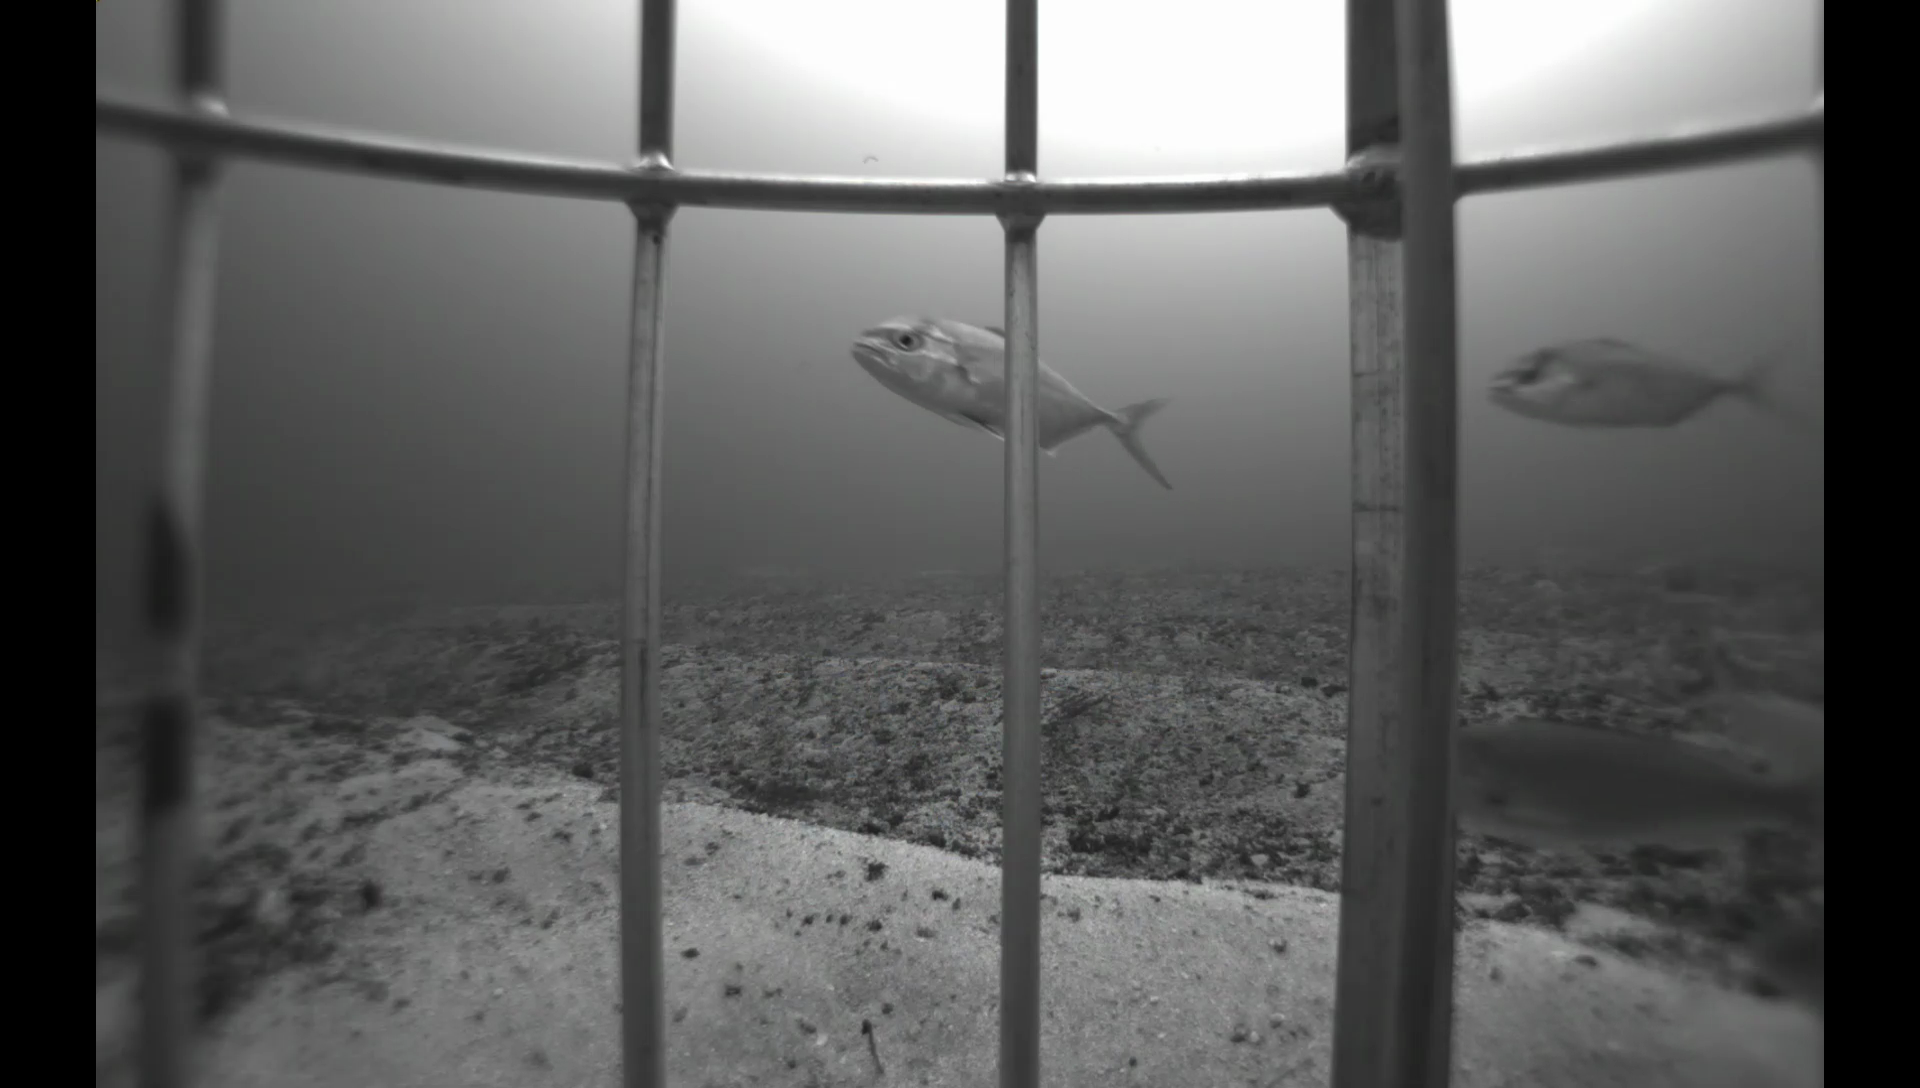RHOMBOPLITESAURORUBENS-170152001: (1456, 710, 1824, 880), (1662, 653, 1822, 794), (1735, 903, 1824, 1034)
SERIOLAFASCIATA-170113103: (836, 295, 1196, 510), (1476, 317, 1822, 456)
